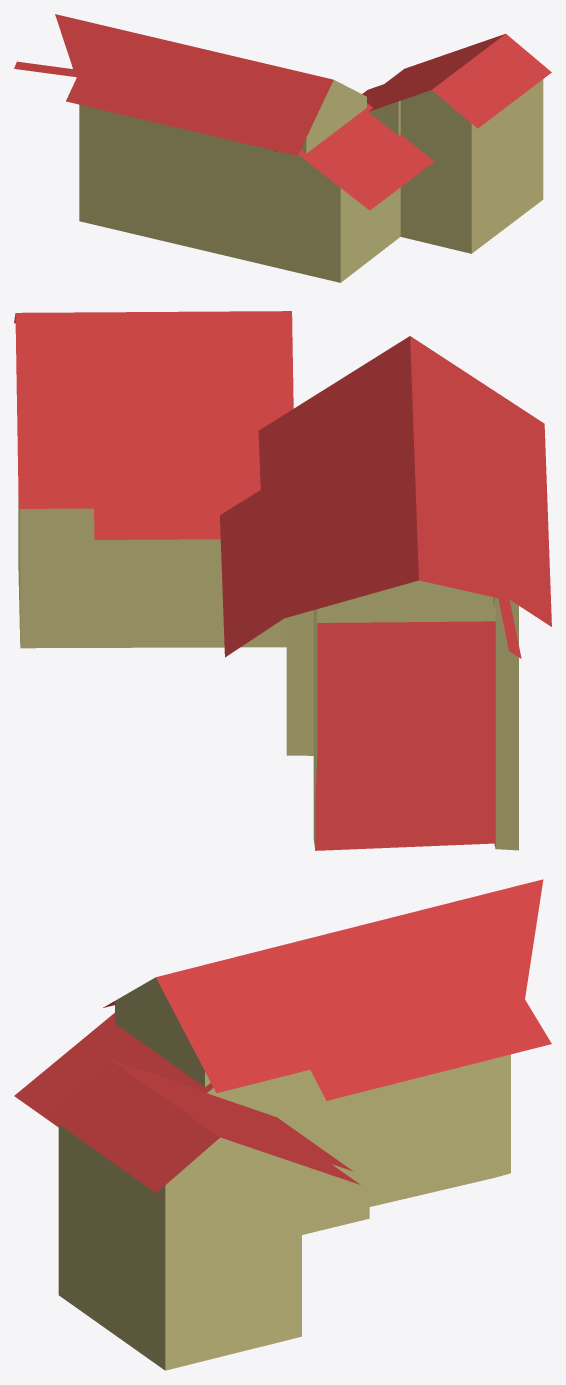
The picture shows the model from 3 angles, top to bottom: view 1: azimuth 30°, elevation 25°; view 2: azimuth 150°, elevation 25°; view 3: azimuth 270°, elevation 25°; orthographic projection. The views are drawn at different scales.
Bounding box in the file's own units: 33.85 × 27.25 × 13.79.
